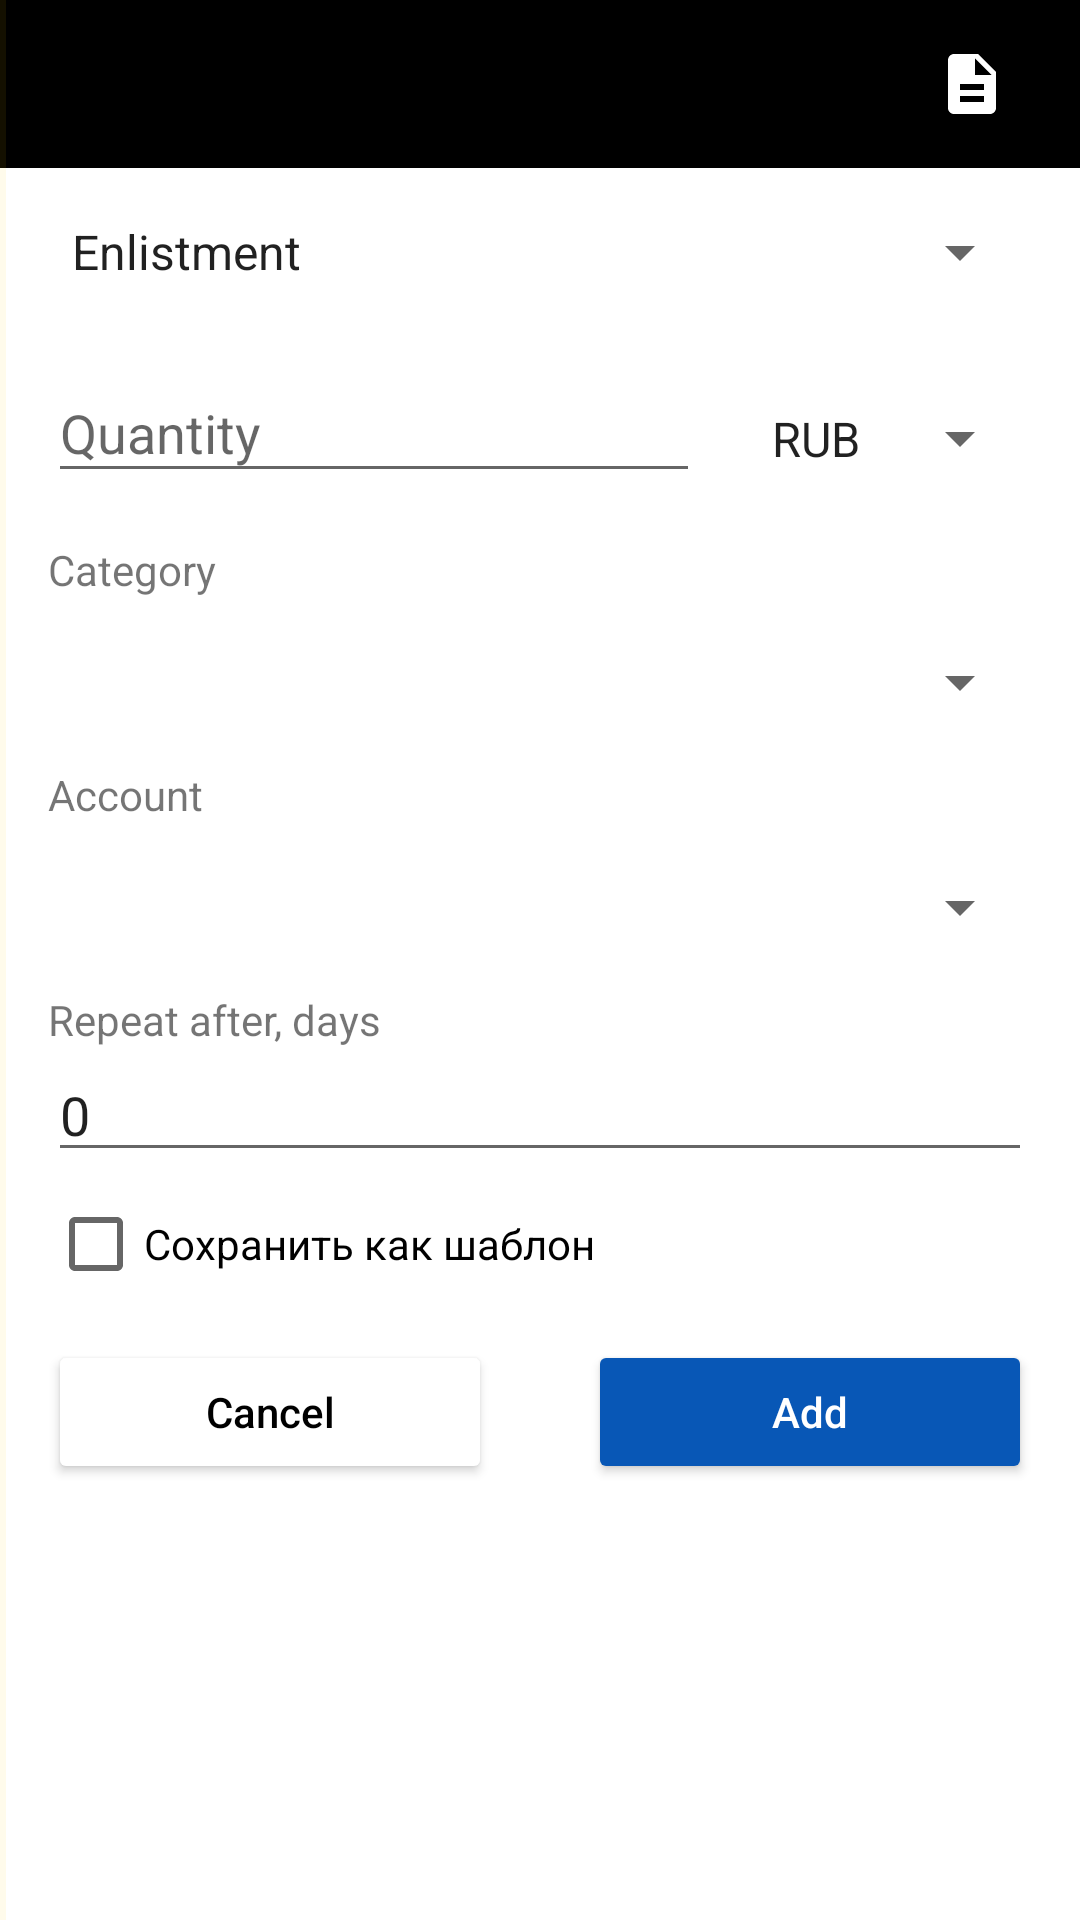

Point at icon controls on the screen. Image size 1080 x 1920, points as (x=x, y=y).
template: (x=972, y=84)
